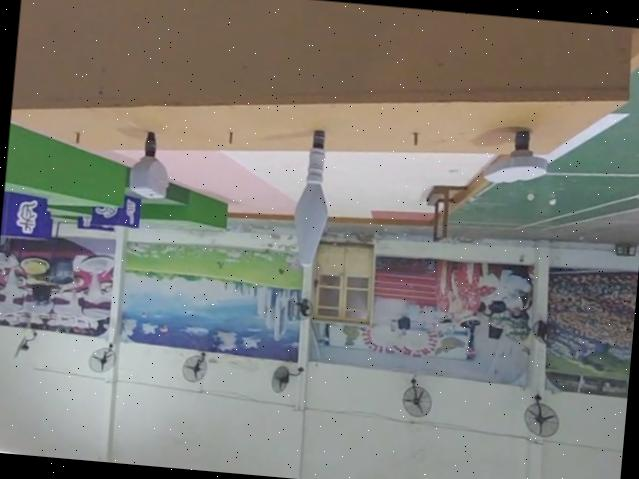Fist: (123, 126, 174, 202)
Hand: (483, 124, 549, 190)
Sph: (291, 124, 338, 268)
